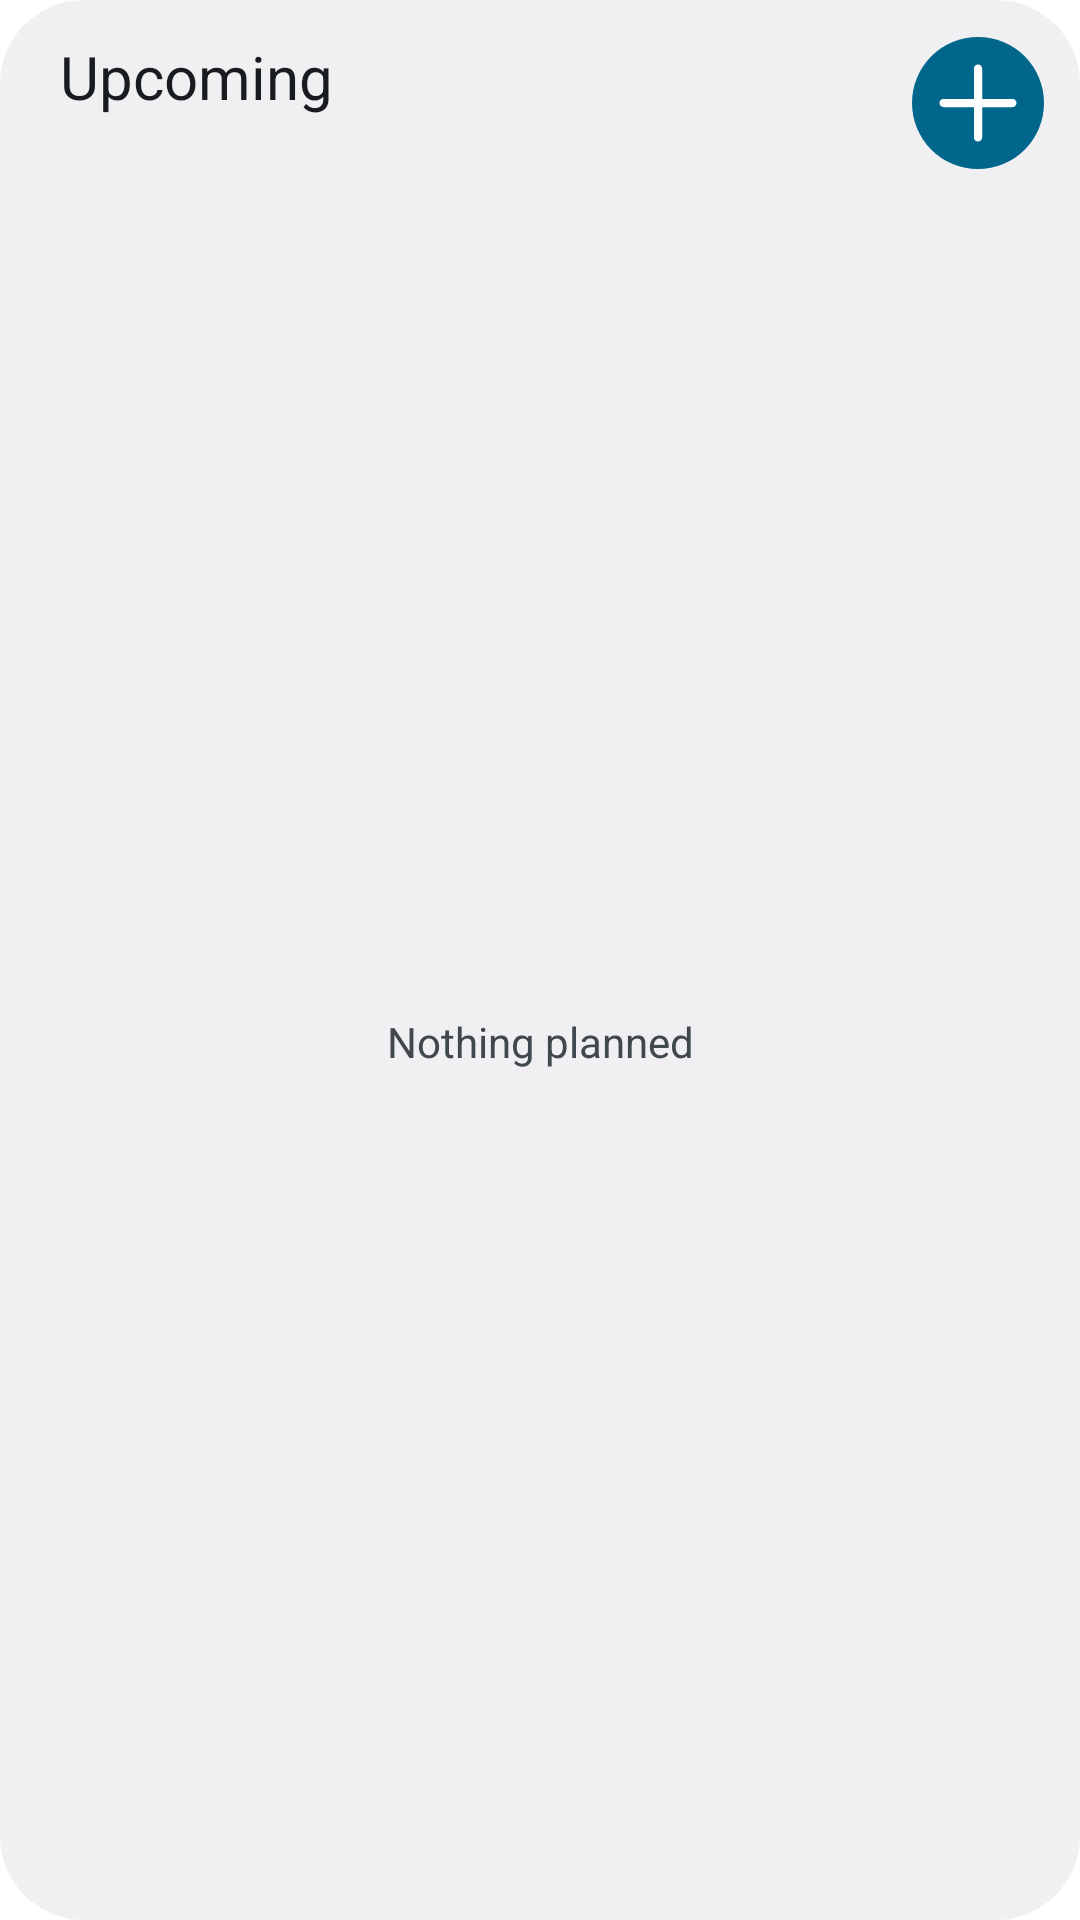

Icons on this 1080 x 1920 Android screen, each with its box as [left=x1, top=y1, right=x2, bottom=y2]:
New event: [left=912, top=37, right=1044, bottom=169]
